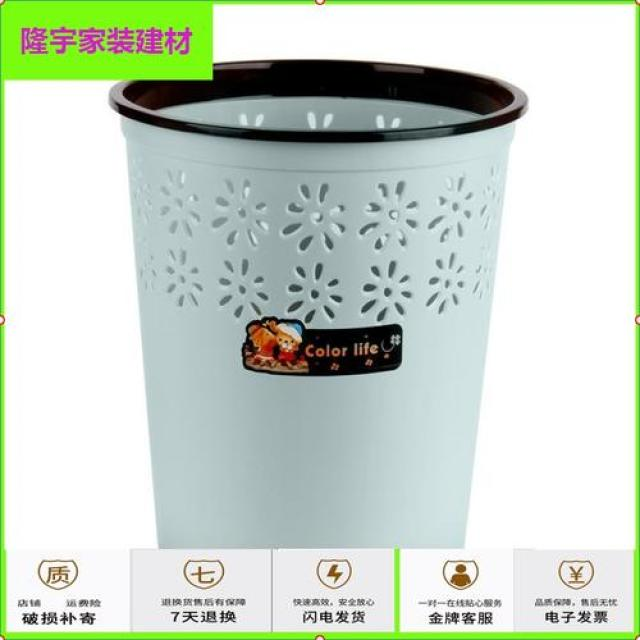dustbin: (103, 50, 532, 552)
